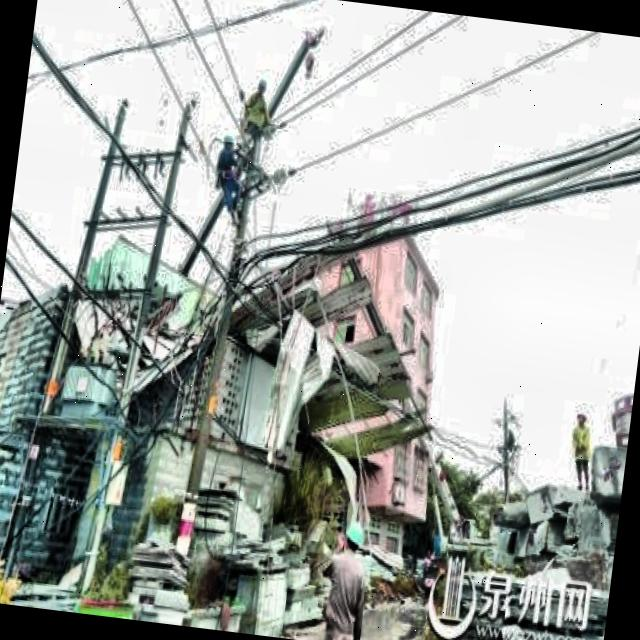helmet: (341, 518, 365, 562)
